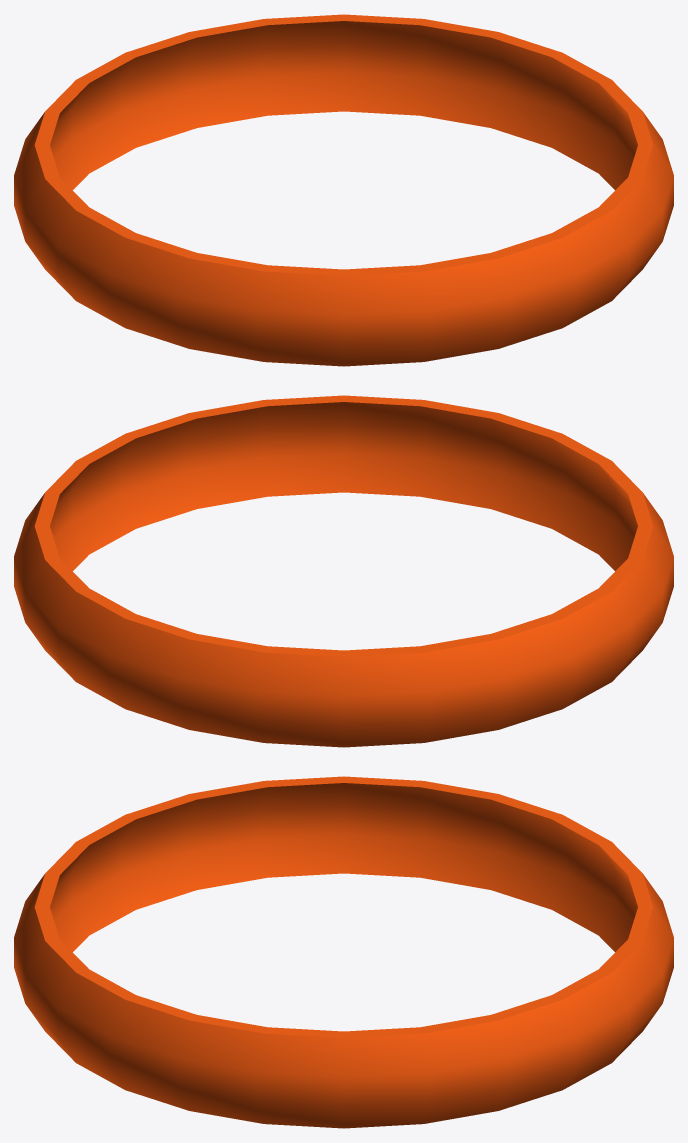
The model's file is Mapa13_Ring.FBX.
The picture shows the model from 3 angles, top to bottom: view 1: azimuth 30°, elevation 25°; view 2: azimuth 150°, elevation 25°; view 3: azimuth 270°, elevation 25°; orthographic projection.
Visible parts, largest first — view 1: Ring_Mapa13; view 2: Ring_Mapa13; view 3: Ring_Mapa13.
Part boxes in pixels (left/top/right/bottom): Ring_Mapa13: left=14, top=14, right=673, bottom=366; Ring_Mapa13: left=14, top=395, right=673, bottom=747; Ring_Mapa13: left=14, top=776, right=673, bottom=1128.
Size of the model in its own units: 67.73 by 10.25 by 67.73.
